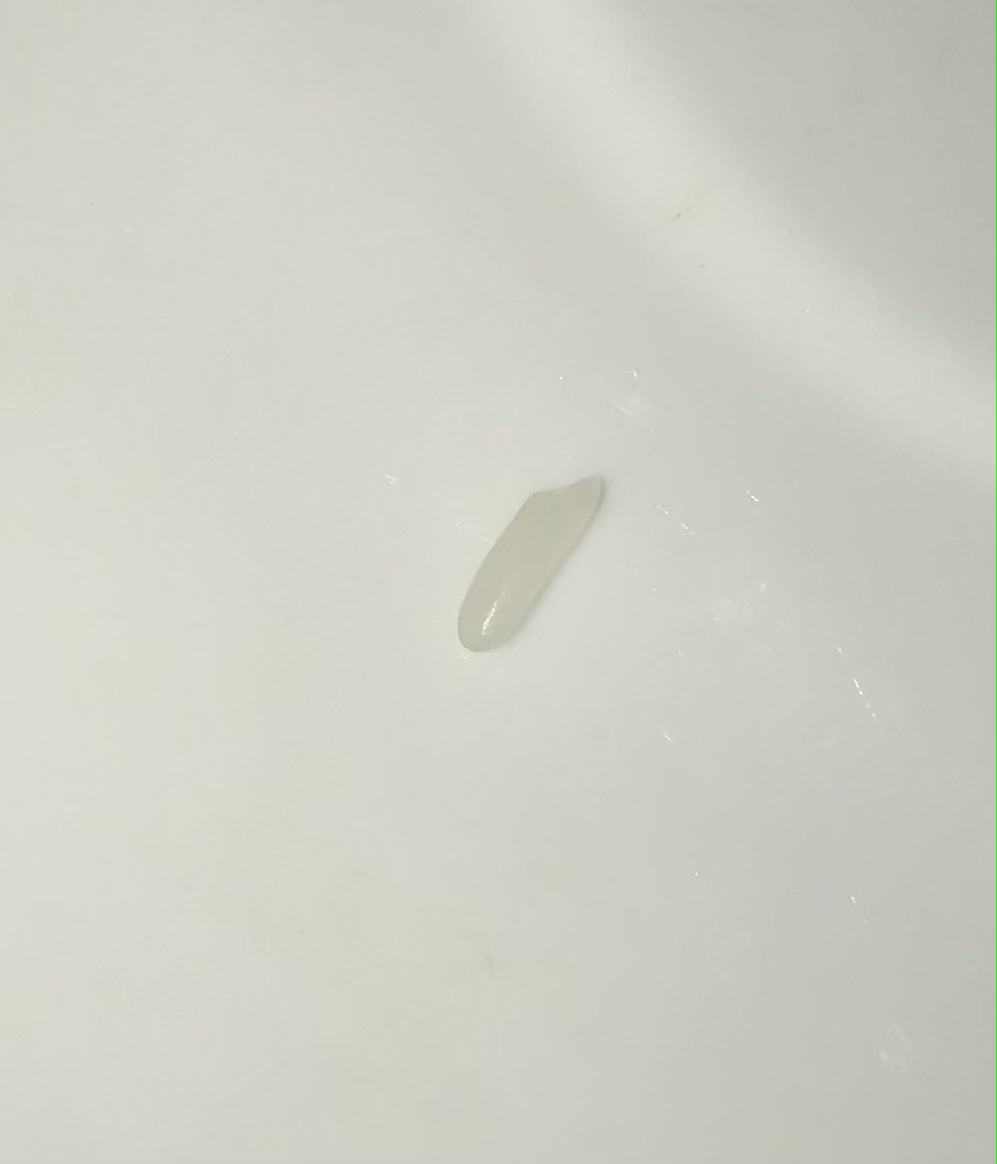Gao Ngoc Troi: (441, 456, 614, 668)
